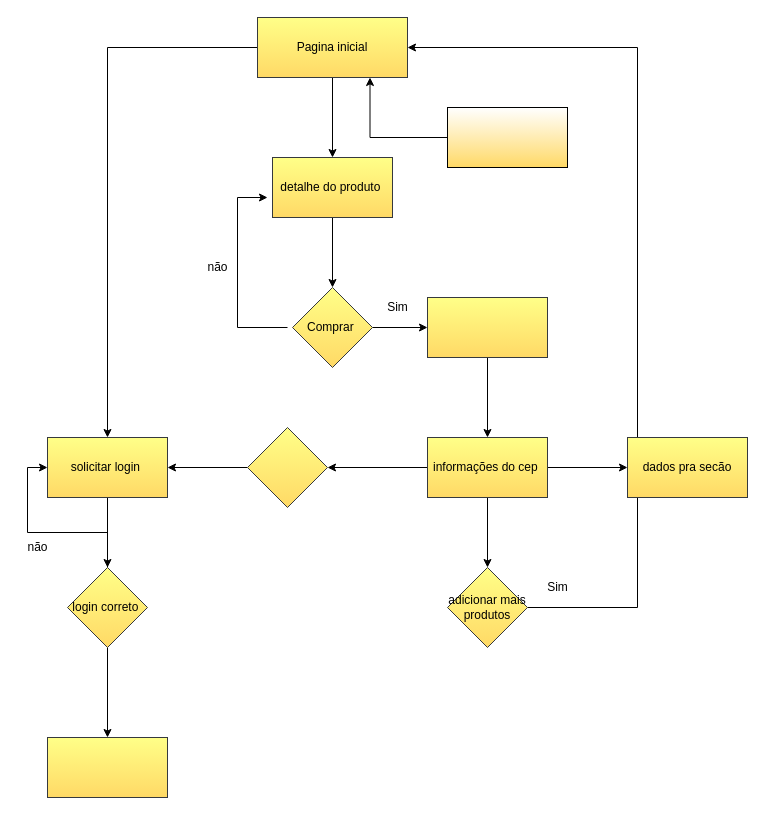
This 765x815 diagram has some shape labels left out. Here are the shapes that lost their labels. From the top down, the box of each, then its label:
(446, 106, 568, 168): buscar produto
(426, 296, 548, 358): confirma dados do produto
(246, 426, 328, 508): continuar
(46, 736, 168, 798): abre a aba de informacões do cliente
